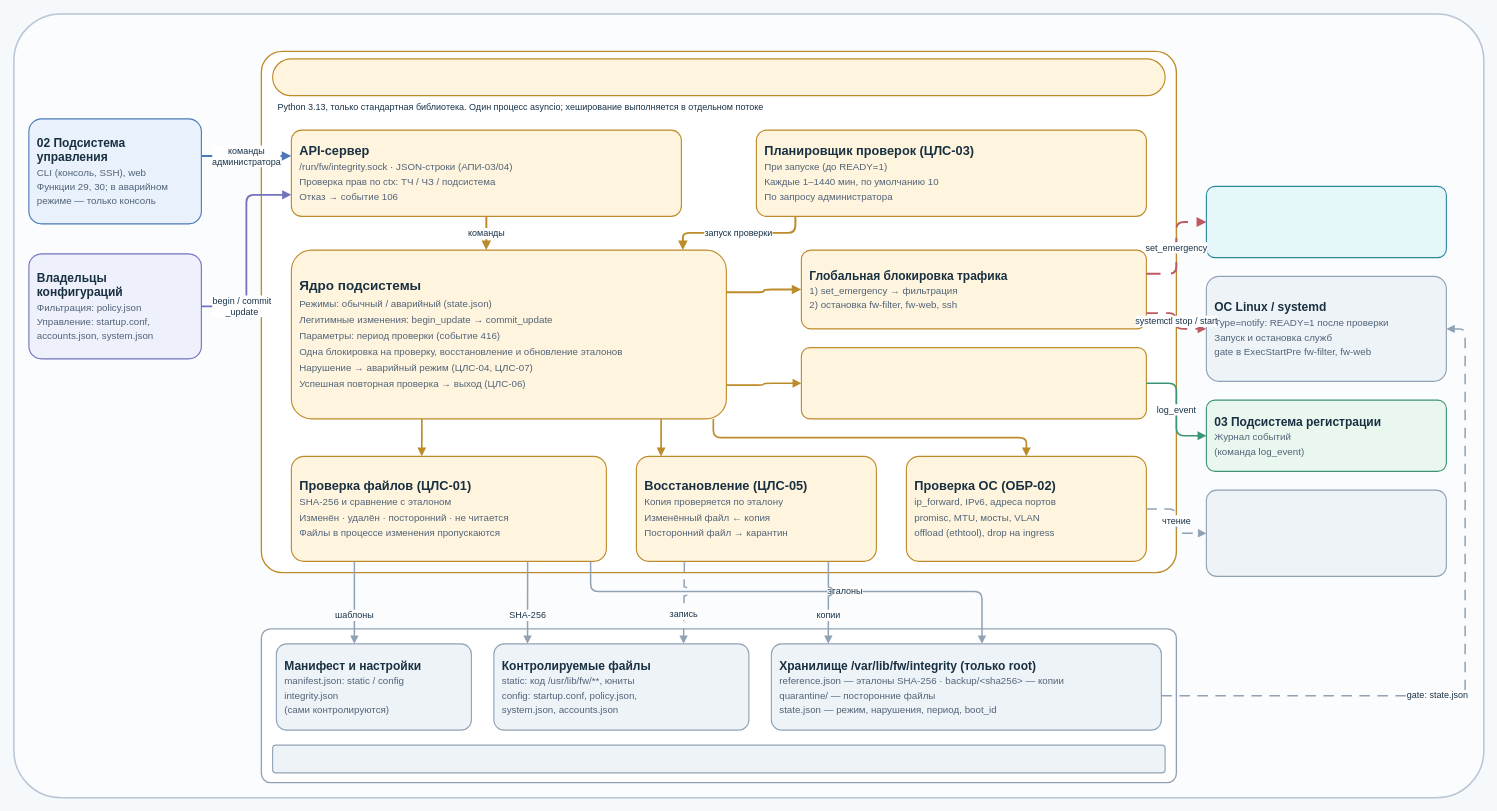
Image size: 1497x811. Some labels were removed from this diagram. The centre of each missing label's shape, as x and y in pixels:
"01 Подсистема фильтрации Все кадры удаляются, пока включена блокировка" goes at (1326,221).
"04 ПОДСИСТЕМА КОНТРОЛЯ ЦЕЛОСТНОСТИ · процесс fw-integrity (root)" goes at (718,77).
"Настройки ОС /proc/sys, /sys/class/net ip -j, ethtool -k, nft -j" goes at (1326,533).
"Отправка событий Коды 416, 500–505; очередь до 1000; дублирование в journald" goes at (973,383).
"ПОСТОЯННЫЕ ДАННЫЕ" goes at (718,758).
